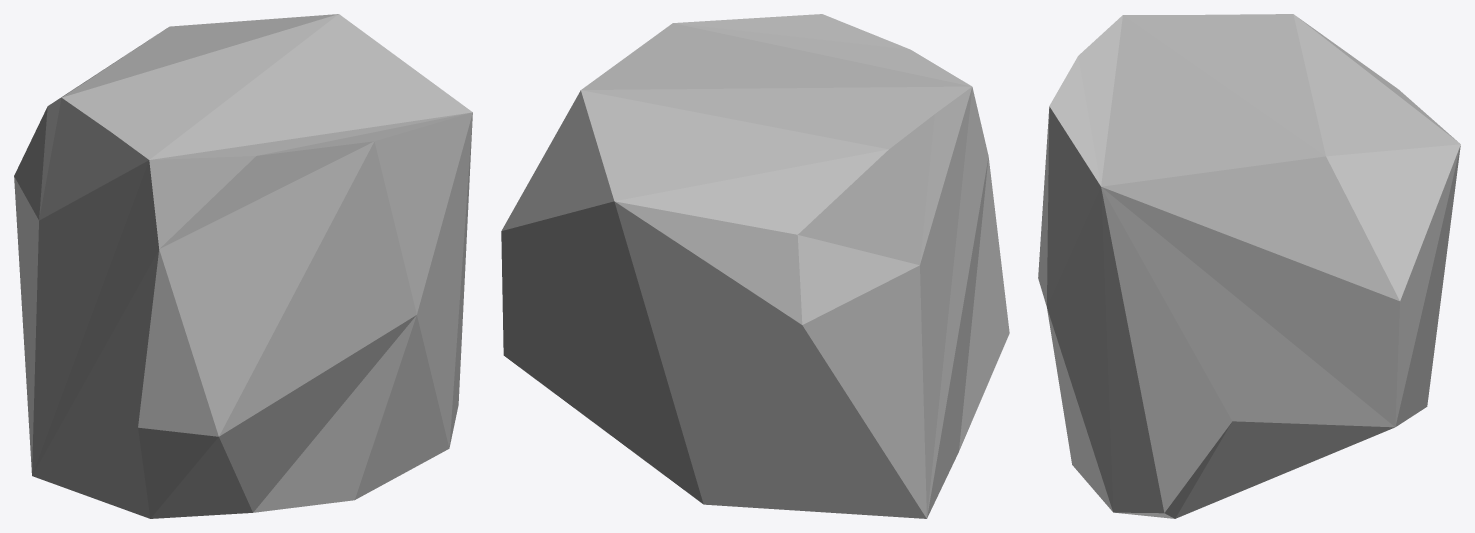
Rendered from Rock.FBX.
The picture shows the model from 3 angles, left to right: view 1: azimuth 30°, elevation 25°; view 2: azimuth 150°, elevation 25°; view 3: azimuth 270°, elevation 25°; orthographic projection.
Parts seen in each view (by area): view 1: Box001; view 2: Box001; view 3: Box001.
Boxes of the visible parts, left/top/right/bottom form: Box001: left=14, top=14, right=472, bottom=518; Box001: left=501, top=14, right=1009, bottom=518; Box001: left=1038, top=14, right=1460, bottom=518.
Size of the model in its own units: 9.73 by 9.21 by 9.68.
1 material, 1 textured.
